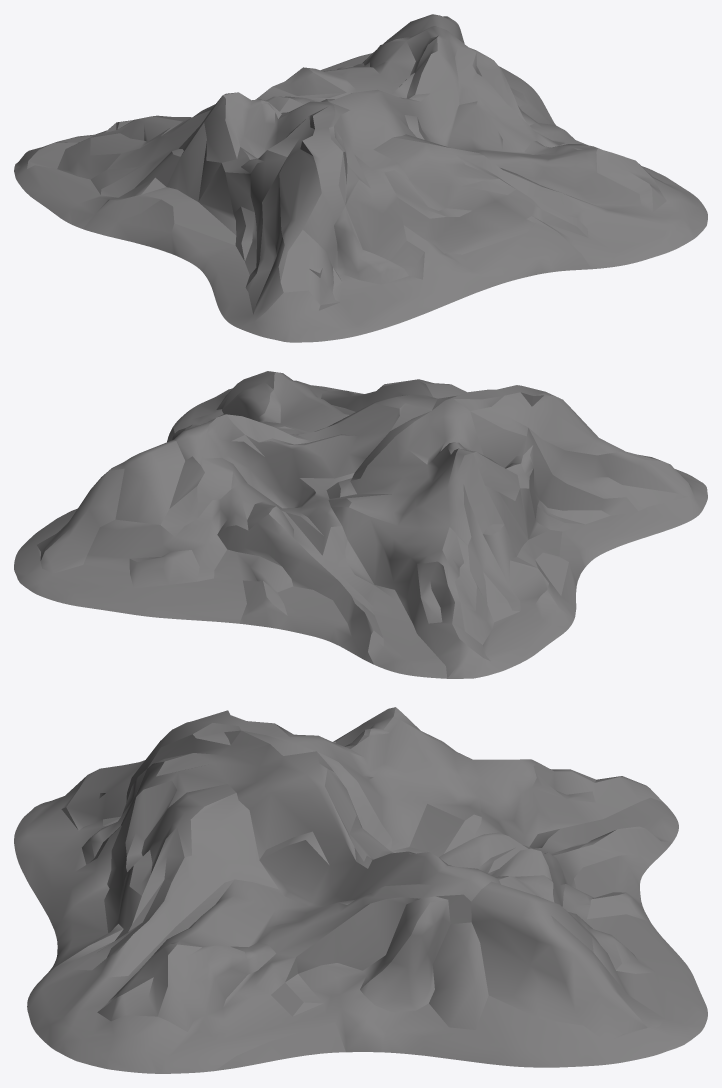
The model's file is SM_Hill_01.obj.
The picture shows the model from 3 angles, top to bottom: view 1: azimuth 30°, elevation 25°; view 2: azimuth 150°, elevation 25°; view 3: azimuth 270°, elevation 25°; orthographic projection. The views are drawn at different scales.
Parts seen in each view (by area): view 1: SM_Hill_01_Mat_Mountain; view 2: SM_Hill_01_Mat_Mountain; view 3: SM_Hill_01_Mat_Mountain.
Part boxes in pixels (x1,y1,x2,y2): SM_Hill_01_Mat_Mountain: (14, 14, 707, 342); SM_Hill_01_Mat_Mountain: (14, 371, 707, 678); SM_Hill_01_Mat_Mountain: (14, 707, 707, 1073).
Size of the model in its own units: 468 by 113 by 464.
Materials: 1 (1 with a texture image).
